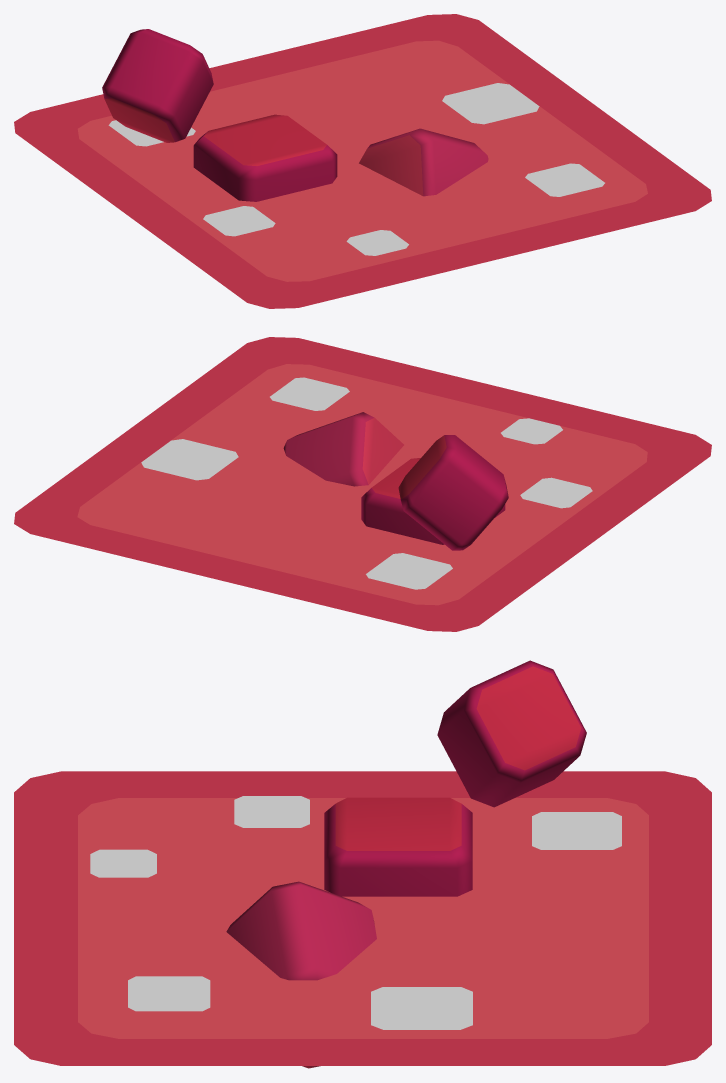
Rendered from zBC_cookrecipe_S_02.fbx.
The picture shows the model from 3 angles, top to bottom: view 1: azimuth 30°, elevation 25°; view 2: azimuth 150°, elevation 25°; view 3: azimuth 270°, elevation 25°; orthographic projection. The views are drawn at different scales.
Parts seen in each view (by area): view 1: base, cube1, cube3, cube2, boko1, boko2, boko8, boko7, boko4; view 2: base, cube3, cube2, cube1, boko1, boko4, boko2, boko8, boko7; view 3: base, cube3, cube1, cube2, boko1, boko4, boko2, boko8, boko7.
Part boxes in pixels (<box>): base: <box>14,14,711,308</box>; cube1: <box>193,114,337,201</box>; cube3: <box>102,29,213,142</box>; cube2: <box>359,128,488,196</box>; boko1: <box>442,83,539,124</box>; boko2: <box>525,163,604,196</box>; boko8: <box>203,206,275,236</box>; boko7: <box>346,230,408,255</box>; boko4: <box>108,120,195,146</box>; base: <box>14,337,711,631</box>; cube3: <box>398,435,508,550</box>; cube2: <box>283,412,403,486</box>; cube1: <box>361,458,505,544</box>; boko1: <box>141,439,238,480</box>; boko4: <box>366,553,452,589</box>; boko2: <box>270,377,349,410</box>; boko8: <box>520,477,592,508</box>; boko7: <box>501,418,562,444</box>; base: <box>14,771,711,1065</box>; cube3: <box>437,660,586,807</box>; cube1: <box>324,797,472,896</box>; cube2: <box>226,881,376,1068</box>; boko1: <box>371,987,472,1029</box>; boko4: <box>532,812,621,849</box>; boko2: <box>128,976,210,1011</box>; boko8: <box>234,796,309,827</box>; boko7: <box>90,849,156,877</box>.
Bounding box in the file's own units: 3.5 × 1.53 × 3.5.
